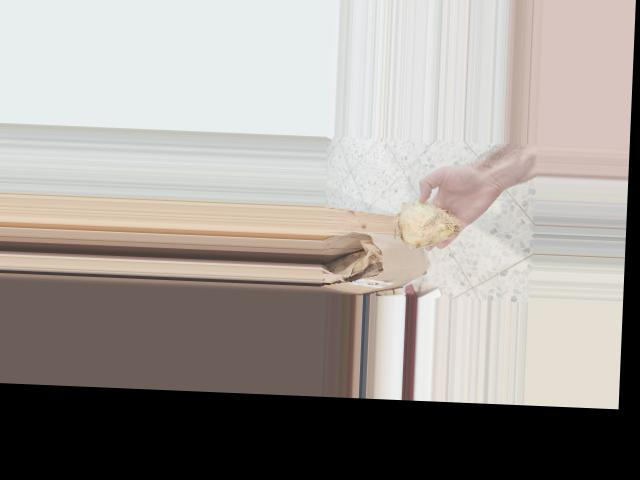onion: (391, 198, 466, 251)
